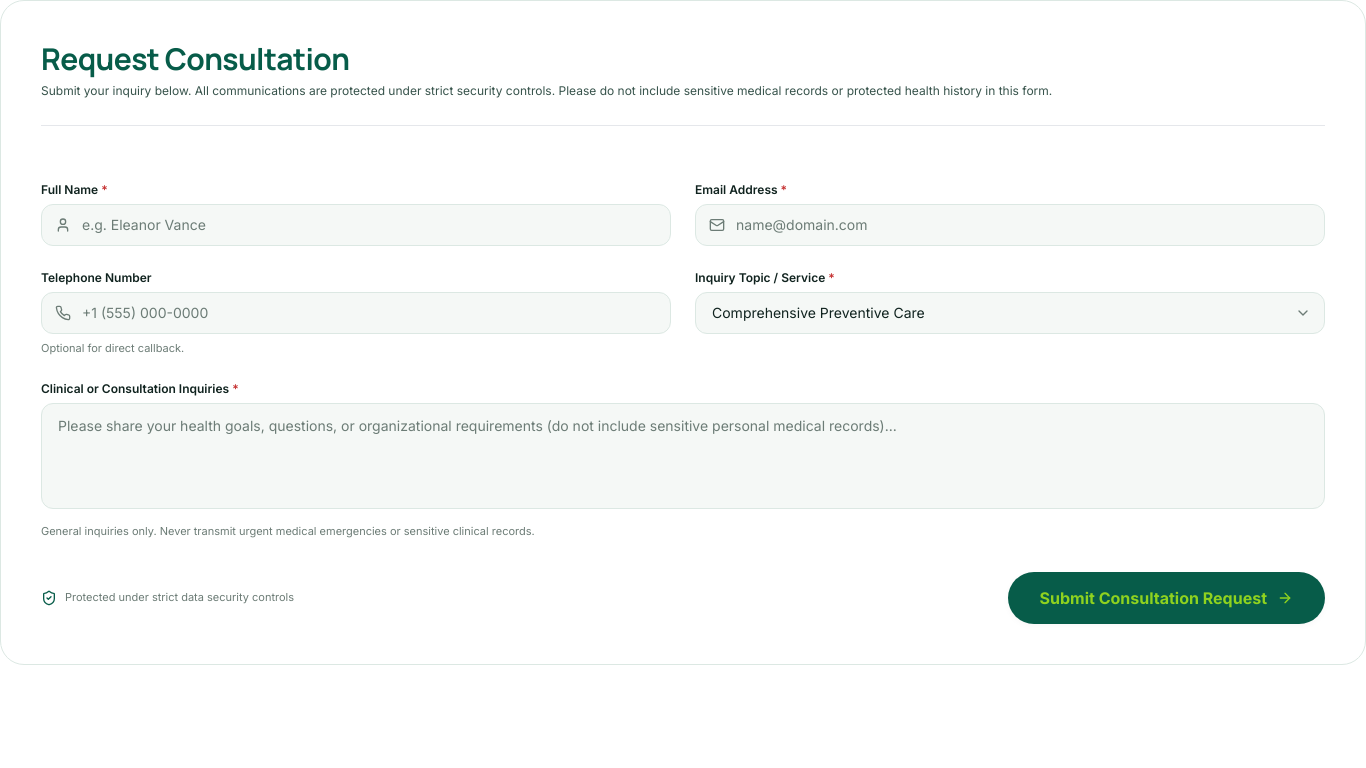
Test: Phase 21 — Security, Privacy & Production Hardening Tests › Form Security & Data Minimization › enforces client-side validation and prevents submission with invalid email
In the field labelled "Full Name *": (356, 224) [41,204,671,246], type "Dr. John Doe"
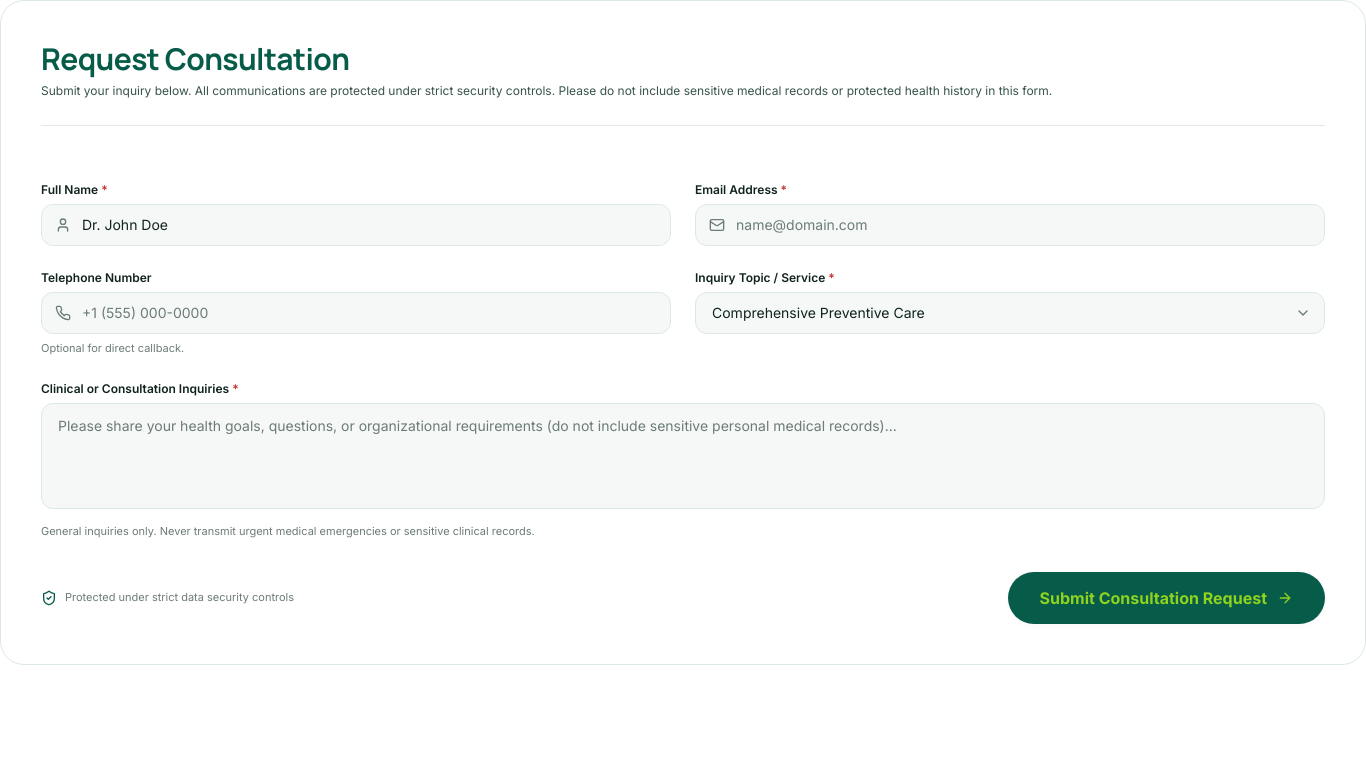
In the field labelled "Email Address *": (1010, 224) [695,204,1325,246], type "invalid-email-format"
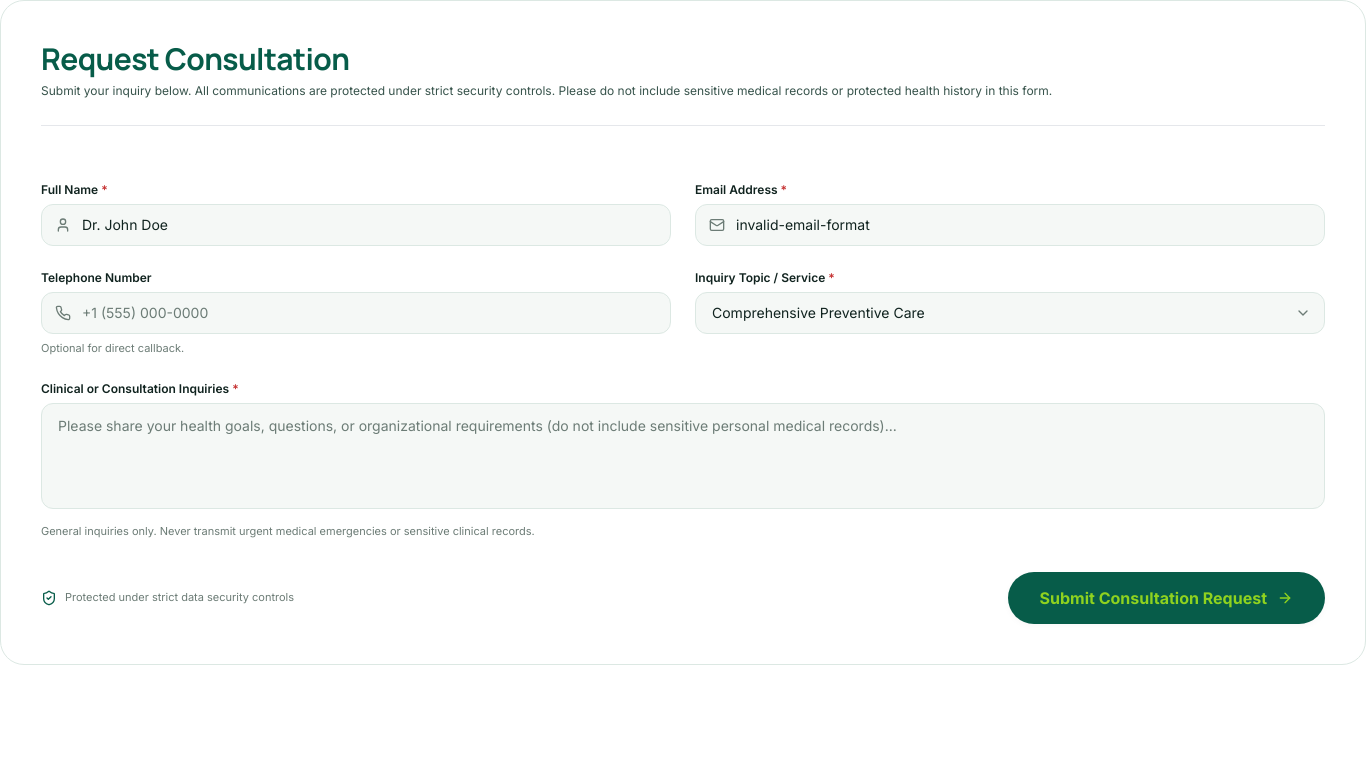
Replace the text in the text box labelled "Clinical or Consultation Inquiries *" with "Valid message content of sufficient length.": (683, 456) [41,403,1325,509]
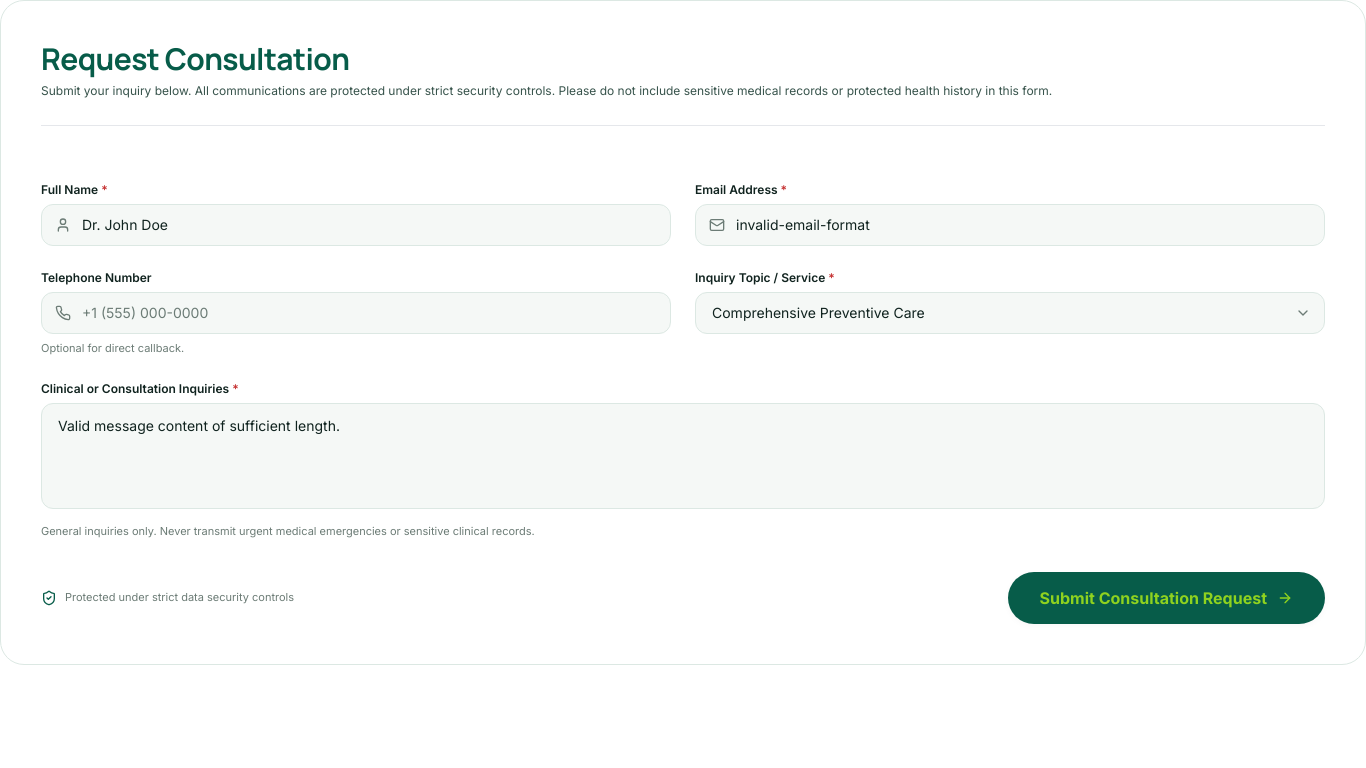
Click the button "Submit Consultation Request": (1166, 598) [1008,572,1325,624]
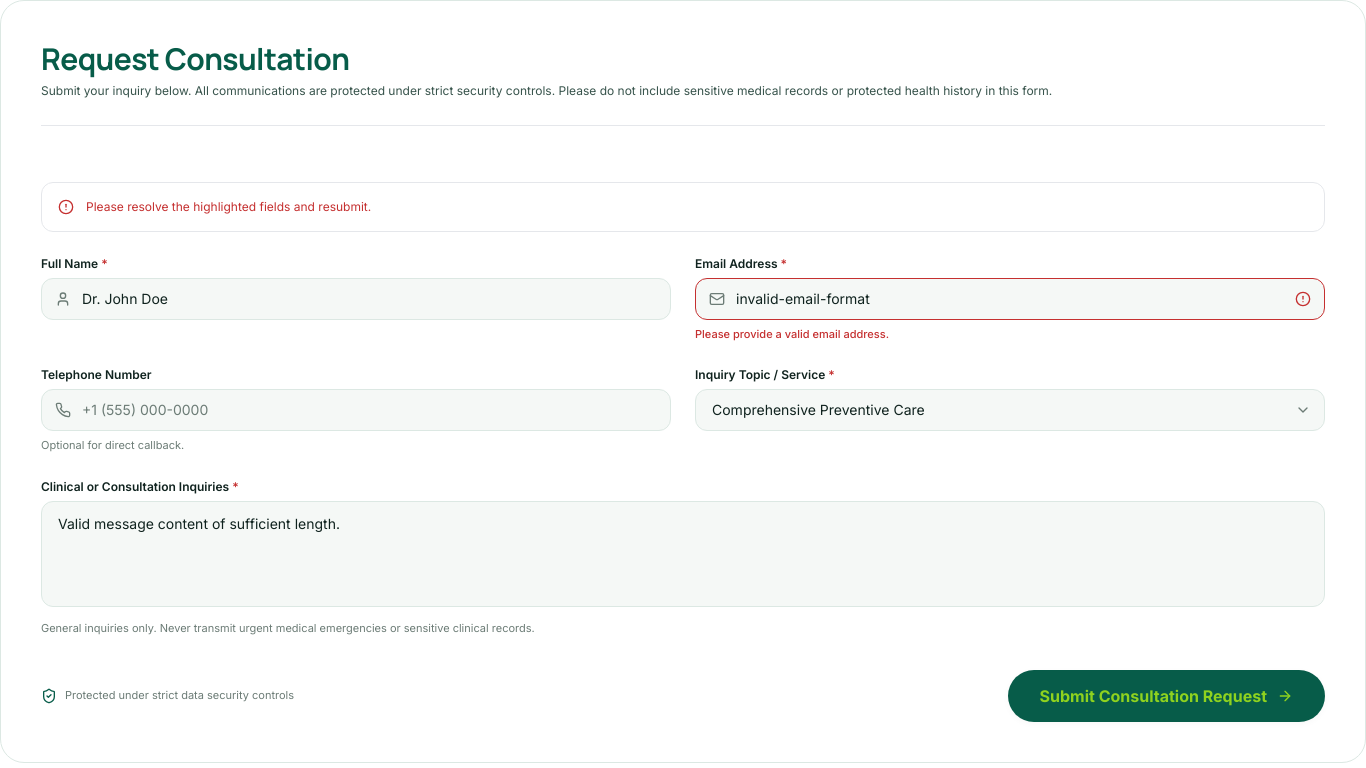
Expected: the text "Please provide a valid email address." is shown, [695,326,889,343]
